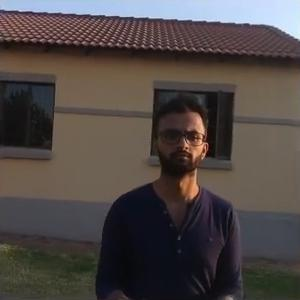follow: (92, 87, 244, 298)
